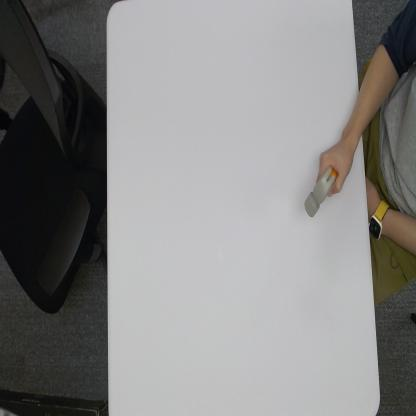Hammer: (305, 165, 337, 217)
Hand: (317, 136, 354, 197)
